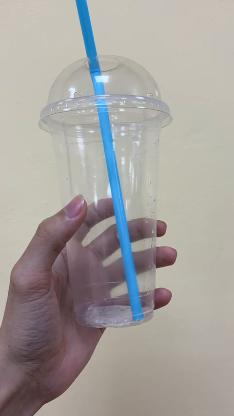Plastic Cup: (38, 57, 174, 329)
